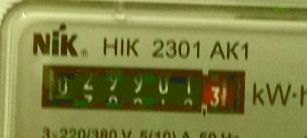0: (154, 71, 170, 96), (53, 73, 68, 96)
1: (181, 72, 194, 96)
2: (79, 69, 95, 92)
3: (205, 84, 221, 108)
9: (130, 72, 143, 95), (105, 70, 118, 91)
screen: (31, 56, 254, 125)
